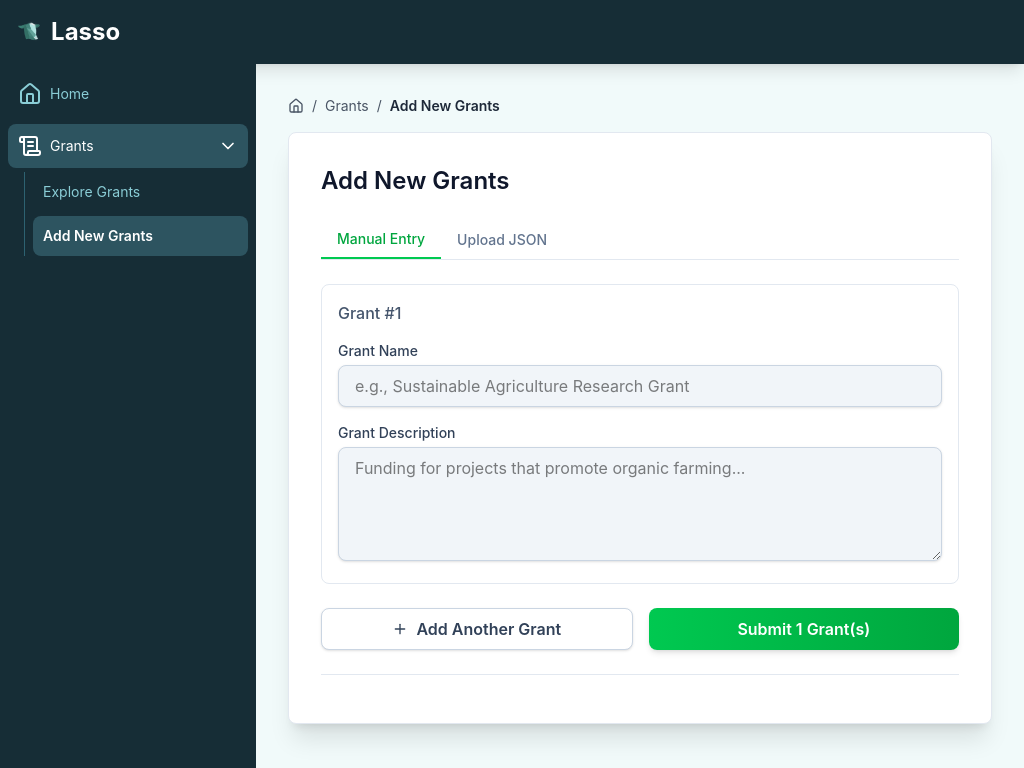
Test: Add Grants - Manual Entry Flow › should show validation errors if fields are empty
Click submit without filling anything
Click the button with test id "submit-manual-button": (805, 629) [649, 608, 960, 650]
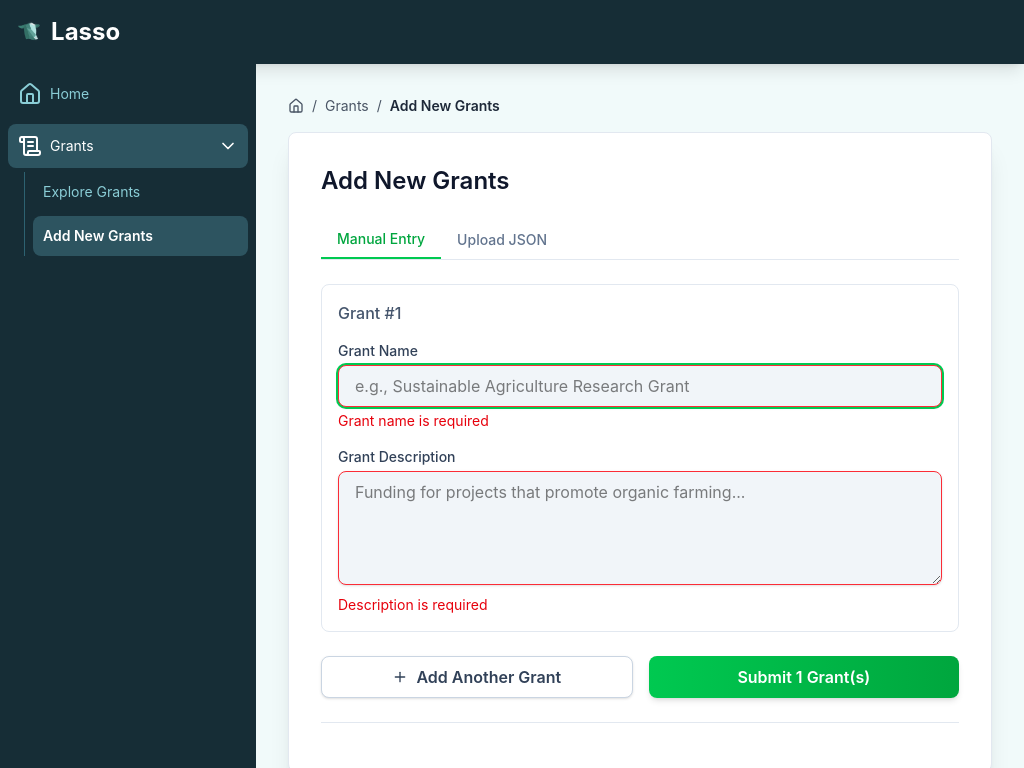
Expected: the text with test id "name_0-error" reads "Grant name is required", [338, 412, 489, 429]
Expected: the text with test id "grant_description_0-error" reads "Description is required", [338, 596, 488, 613]
